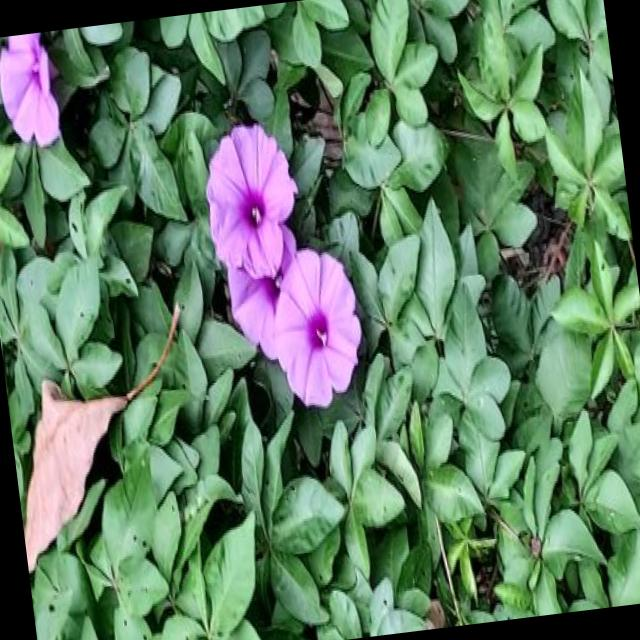ipomoea: (193, 110, 374, 424), (194, 116, 310, 288), (261, 240, 373, 418)
